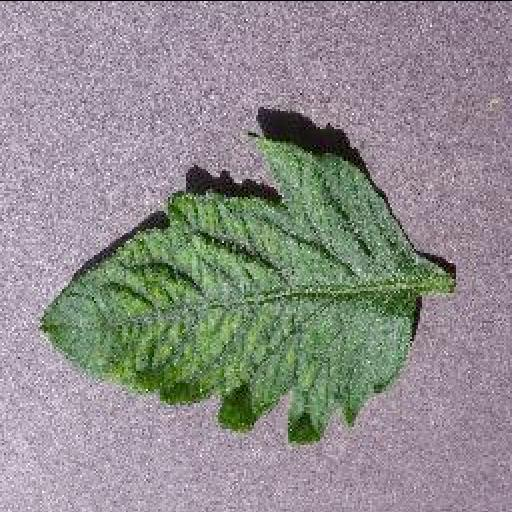disease_tomato: (38, 131, 424, 449)
